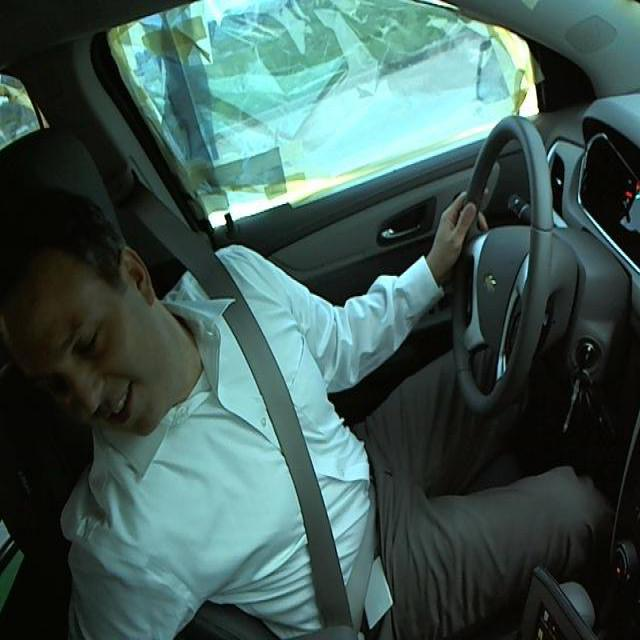seatbelt: (180, 284, 371, 639)
